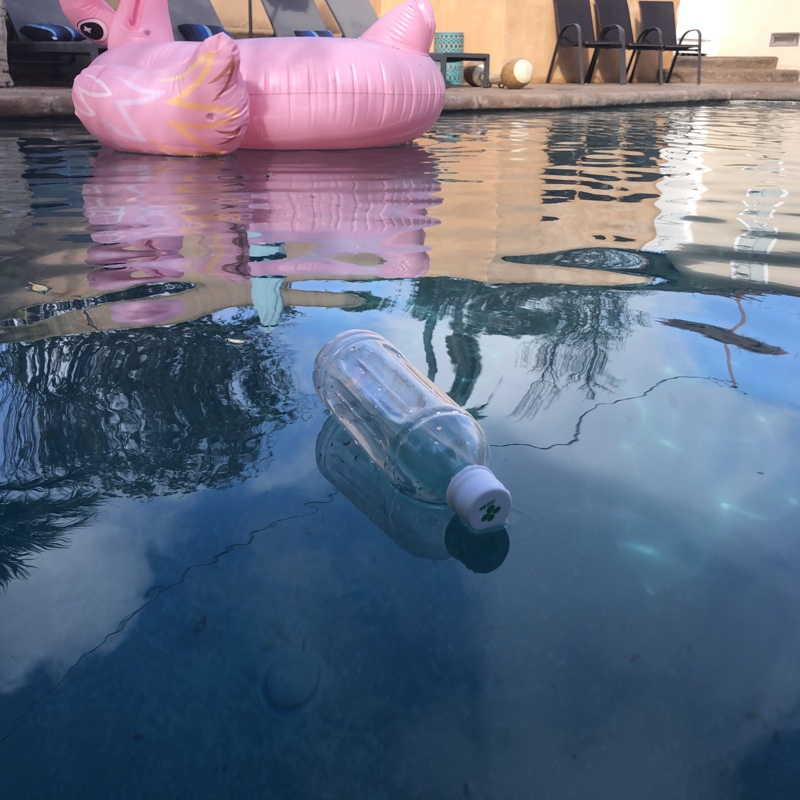Plastic Bottle: (310, 325, 516, 541)
